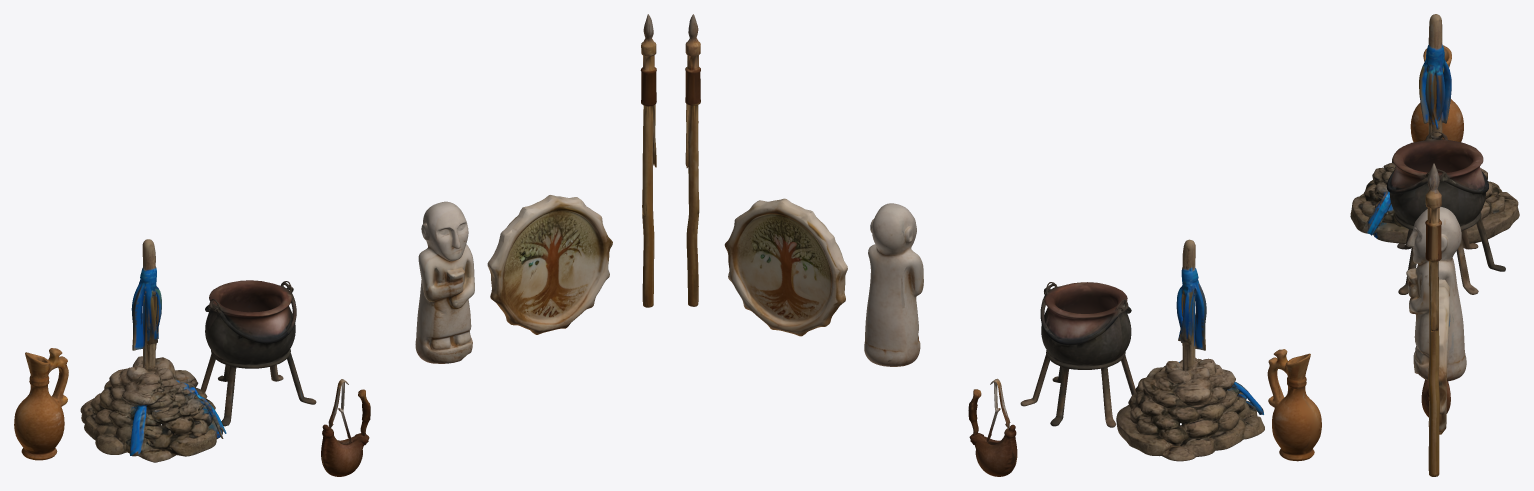
File: Props1.fbx
3 views of the same model, side by side, from view 1: azimuth 30°, elevation 25°; view 2: azimuth 150°, elevation 25°; view 3: azimuth 270°, elevation 25° (orthographic). The views are drawn at different scales.
Visible parts, largest first — view 1: NeydiBu, Davul, Kazan, Statue, Pot, Spear, Matar; view 2: NeydiBu, Davul, Kazan, Statue, Pot, Spear, Matar; view 3: Kazan, NeydiBu, Statue, Spear, Davul, Pot, Matar.
Boxes of the visible parts, left/top/right/bottom form: NeydiBu: left=80, top=239, right=226, bottom=462; Davul: left=487, top=195, right=612, bottom=334; Kazan: left=201, top=280, right=316, bottom=426; Statue: left=415, top=201, right=474, bottom=363; Pot: left=14, top=348, right=68, bottom=460; Spear: left=640, top=14, right=656, bottom=307; Matar: left=321, top=379, right=370, bottom=476; NeydiBu: left=1116, top=239, right=1264, bottom=461; Davul: left=724, top=198, right=847, bottom=336; Kazan: left=1020, top=282, right=1136, bottom=427; Statue: left=864, top=203, right=923, bottom=366; Pot: left=1267, top=349, right=1321, bottom=461; Spear: left=685, top=14, right=700, bottom=306; Matar: left=968, top=378, right=1017, bottom=476; Kazan: left=1386, top=131, right=1505, bottom=294; NeydiBu: left=1350, top=14, right=1519, bottom=243; Statue: left=1406, top=207, right=1466, bottom=381; Spear: left=1425, top=163, right=1441, bottom=476; Davul: left=1428, top=279, right=1449, bottom=434; Pot: left=1410, top=45, right=1463, bottom=142; Matar: left=1421, top=379, right=1450, bottom=417.
Bounding box in the file's own units: 430 × 251 × 92.66.
